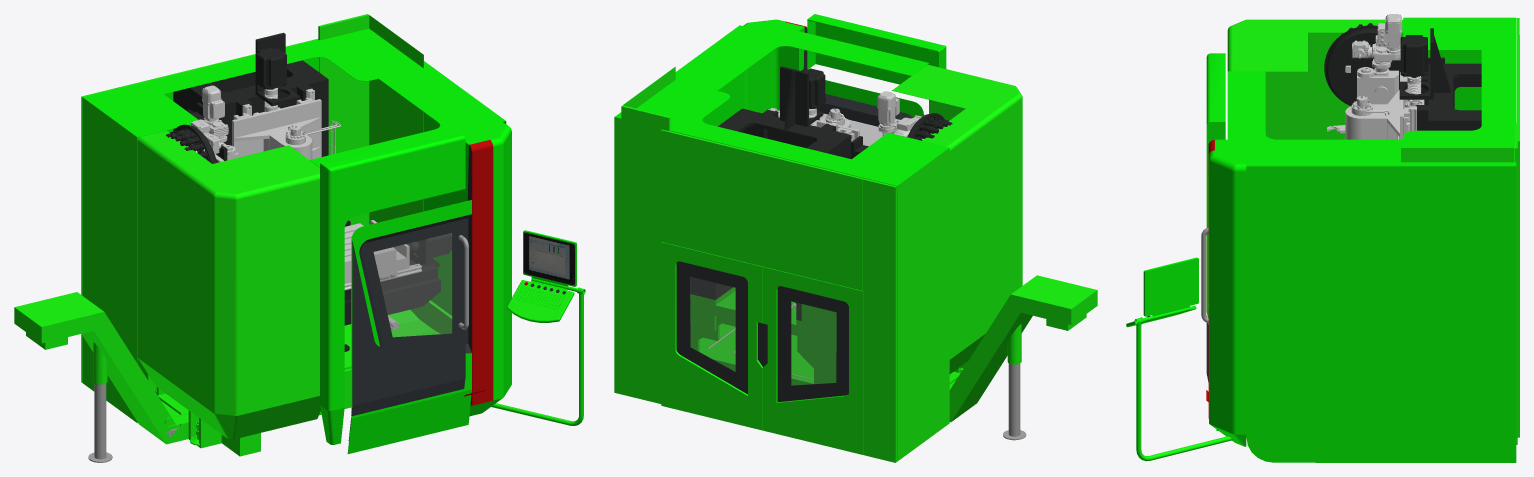
File: machine-running.glb
3 views of the same model, side by side, from view 1: azimuth 30°, elevation 25°; view 2: azimuth 150°, elevation 25°; view 3: azimuth 270°, elevation 25° (orthographic). The views are drawn at different scales.
Visible parts, largest first — view 1: CNC_Machine_with_Doors_mesh76_192, CNC_Machine_with_Doors_mesh106_184, CNC_Machine_with_Doors_mesh72_176, CNC_Machine_with_Doors_mesh77_198, CNC_Machine_with_Doors_mesh179_180, CNC_Machine_with_Doors_mesh83_202, CNC_Machine_with_Doors_mesh78_196, CNC_Machine_with_Doors_mesh88_206, CNC_Machine_with_Doors_mesh135_336, CNC_Machine_with_Doors_mesh103_232, CNC_Machine_with_Doors_mesh110_178, CNC_Machine_with_Doors_mesh101_194 (+10 smaller); view 2: CNC_Machine_with_Doors_mesh132_272, CNC_Machine_with_Doors_mesh106_184, CNC_Machine_with_Doors_mesh76_192, CNC_Machine_with_Doors_mesh101_194, CNC_Machine_with_Doors_mesh85_204, CNC_Machine_with_Doors_mesh179_180, CNC_Machine_with_Doors_mesh103_232, CNC_Machine_with_Doors_mesh100_230, CNC_Machine_with_Doors_mesh72_176, CNC_Machine_with_Doors_mesh77_198, CNC_Machine_with_Doors_mesh73_186, CNC_Machine_with_Doors_mesh37_90 (+3 smaller); view 3: CNC_Machine_with_Doors_mesh106_184, CNC_Machine_with_Doors_mesh76_192, CNC_Machine_with_Doors_mesh88_206, CNC_Machine_with_Doors_mesh103_232, CNC_Machine_with_Doors_mesh72_176, CNC_Machine_with_Doors_mesh124_248, CNC_Machine_with_Doors_mesh91_214, CNC_Machine_with_Doors_mesh74_188, CNC_Machine_with_Doors_mesh132_272, CNC_Machine_with_Doors_mesh37_90, CNC_Machine_with_Doors_mesh44_104, CNC_Machine_with_Doors_mesh41_96 (+4 smaller).
Boxes of the visible parts, box(x1,y1,x2,y2) form: CNC_Machine_with_Doors_mesh76_192: box(137, 130, 320, 439); CNC_Machine_with_Doors_mesh106_184: box(83, 28, 511, 423); CNC_Machine_with_Doors_mesh72_176: box(320, 129, 465, 444); CNC_Machine_with_Doors_mesh77_198: box(347, 200, 471, 453); CNC_Machine_with_Doors_mesh179_180: box(14, 292, 188, 444); CNC_Machine_with_Doors_mesh83_202: box(352, 241, 465, 405); CNC_Machine_with_Doors_mesh78_196: box(374, 233, 451, 336); CNC_Machine_with_Doors_mesh88_206: box(491, 230, 585, 425); CNC_Machine_with_Doors_mesh135_336: box(469, 140, 493, 405); CNC_Machine_with_Doors_mesh103_232: box(173, 32, 350, 226); CNC_Machine_with_Doors_mesh110_178: box(361, 218, 468, 346); CNC_Machine_with_Doors_mesh101_194: box(318, 14, 369, 225); CNC_Machine_with_Doors_mesh132_272: box(660, 129, 863, 454); CNC_Machine_with_Doors_mesh106_184: box(614, 19, 949, 461); CNC_Machine_with_Doors_mesh76_192: box(892, 64, 1022, 374); CNC_Machine_with_Doors_mesh101_194: box(621, 105, 670, 391); CNC_Machine_with_Doors_mesh85_204: box(863, 178, 896, 462); CNC_Machine_with_Doors_mesh179_180: box(949, 275, 1097, 422); CNC_Machine_with_Doors_mesh103_232: box(690, 66, 851, 320); CNC_Machine_with_Doors_mesh100_230: box(690, 287, 967, 385); CNC_Machine_with_Doors_mesh72_176: box(807, 14, 946, 84); CNC_Machine_with_Doors_mesh77_198: box(824, 80, 923, 119); CNC_Machine_with_Doors_mesh73_186: box(1003, 363, 1026, 440); CNC_Machine_with_Doors_mesh37_90: box(877, 91, 900, 135); CNC_Machine_with_Doors_mesh106_184: box(1209, 17, 1516, 462); CNC_Machine_with_Doors_mesh76_192: box(1227, 19, 1403, 139); CNC_Machine_with_Doors_mesh88_206: box(1126, 257, 1232, 461); CNC_Machine_with_Doors_mesh103_232: box(1399, 28, 1481, 130); CNC_Machine_with_Doors_mesh72_176: box(1206, 53, 1225, 317); CNC_Machine_with_Doors_mesh124_248: box(1345, 72, 1403, 139); CNC_Machine_with_Doors_mesh91_214: box(1324, 25, 1401, 105); CNC_Machine_with_Doors_mesh74_188: box(1401, 148, 1513, 162); CNC_Machine_with_Doors_mesh132_272: box(1516, 35, 1519, 437); CNC_Machine_with_Doors_mesh37_90: box(1373, 14, 1402, 66); CNC_Machine_with_Doors_mesh44_104: box(1400, 35, 1427, 77); CNC_Machine_with_Doors_mesh41_96: box(1357, 69, 1398, 104).
Size of the model in its own units: 4.25 by 3.21 by 3.14.
12 materials, 1 textured.
